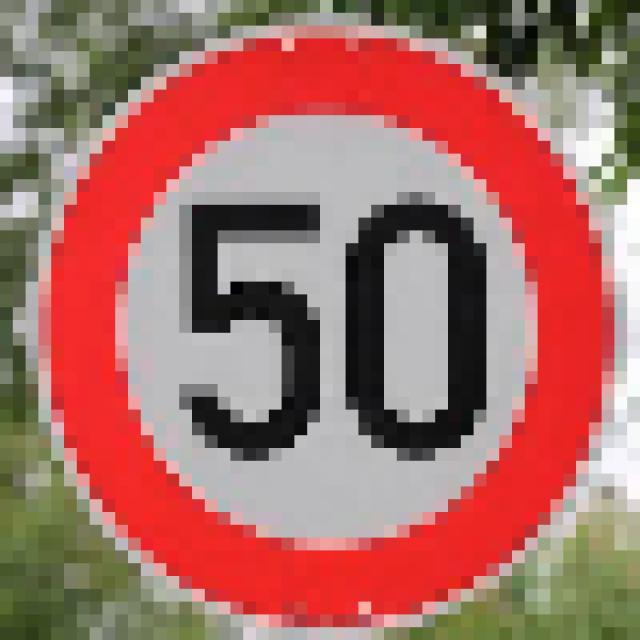Limite-50: (33, 22, 627, 640)
